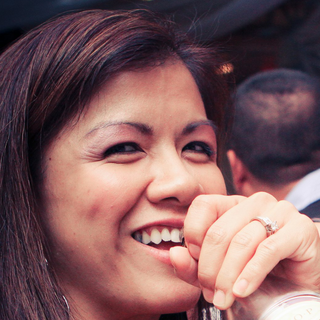eye: (97, 138, 147, 164), (176, 136, 215, 163)
